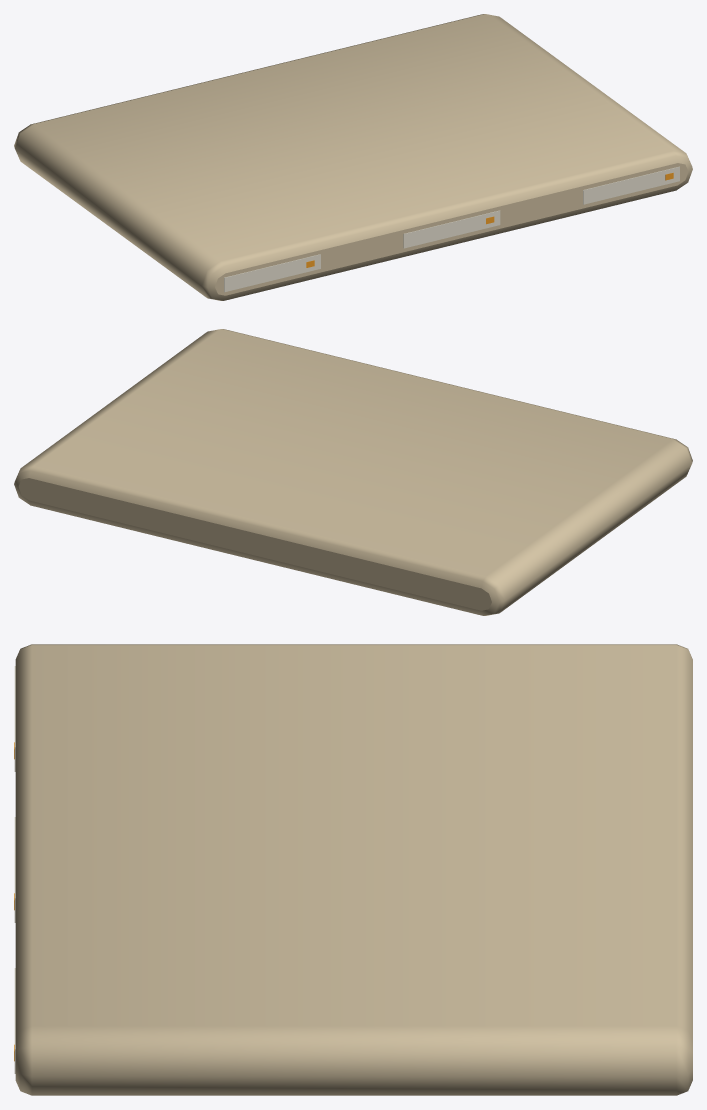
Rendered from t200_cabinet.obj.
The picture shows the model from 3 angles, top to bottom: view 1: azimuth 30°, elevation 25°; view 2: azimuth 150°, elevation 25°; view 3: azimuth 270°, elevation 25°; orthographic projection. The views are drawn at different scales.
Parts seen in each view (by area): view 1: t200_cabinet; view 2: t200_cabinet; view 3: t200_cabinet.
Boxes of the visible parts, x1,y1,x2,y2 form: t200_cabinet: [14, 14, 692, 300]; t200_cabinet: [14, 329, 692, 615]; t200_cabinet: [14, 644, 692, 1095].
Bounding box in the file's own units: 7.1 × 0.55 × 4.94.
